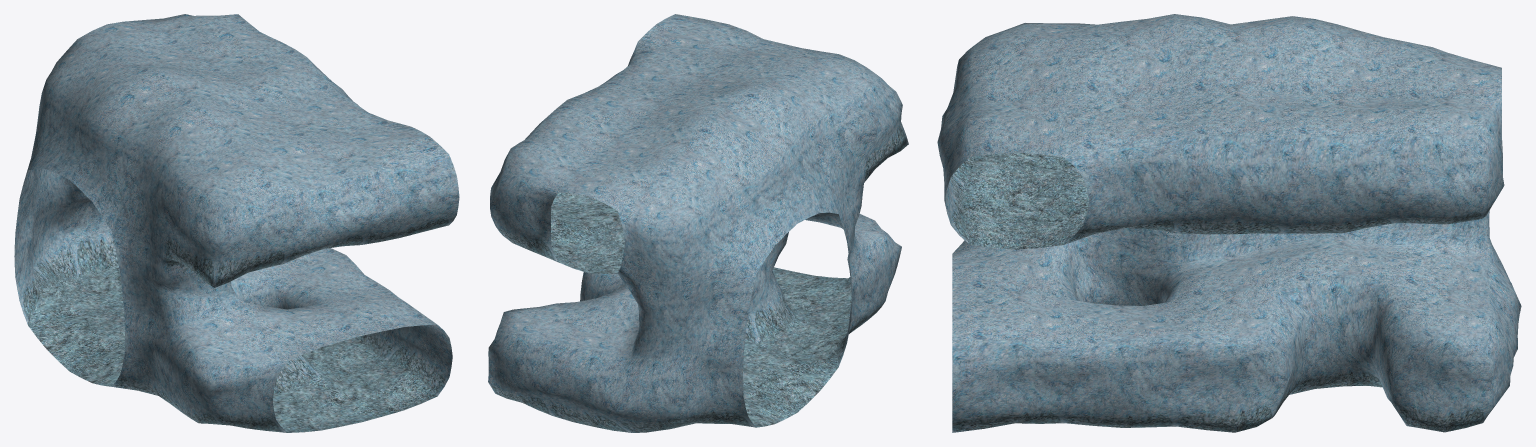
The model's file is thm_all_cave_s03_ice_r5_r5.fbx.
The picture shows the model from 3 angles, left to right: view 1: azimuth 30°, elevation 25°; view 2: azimuth 150°, elevation 25°; view 3: azimuth 270°, elevation 25°; orthographic projection. The views are drawn at different scales.
Visible parts, largest first — view 1: mesh_node; view 2: mesh_node; view 3: mesh_node.
Part boxes in pixels (x1=…): mesh_node: x1=14, y1=14, x2=459, y2=432; mesh_node: x1=488, y1=14, x2=908, y2=432; mesh_node: x1=937, y1=14, x2=1521, y2=432.
Size of the model in its own units: 26.95 by 28.15 by 43.27.
